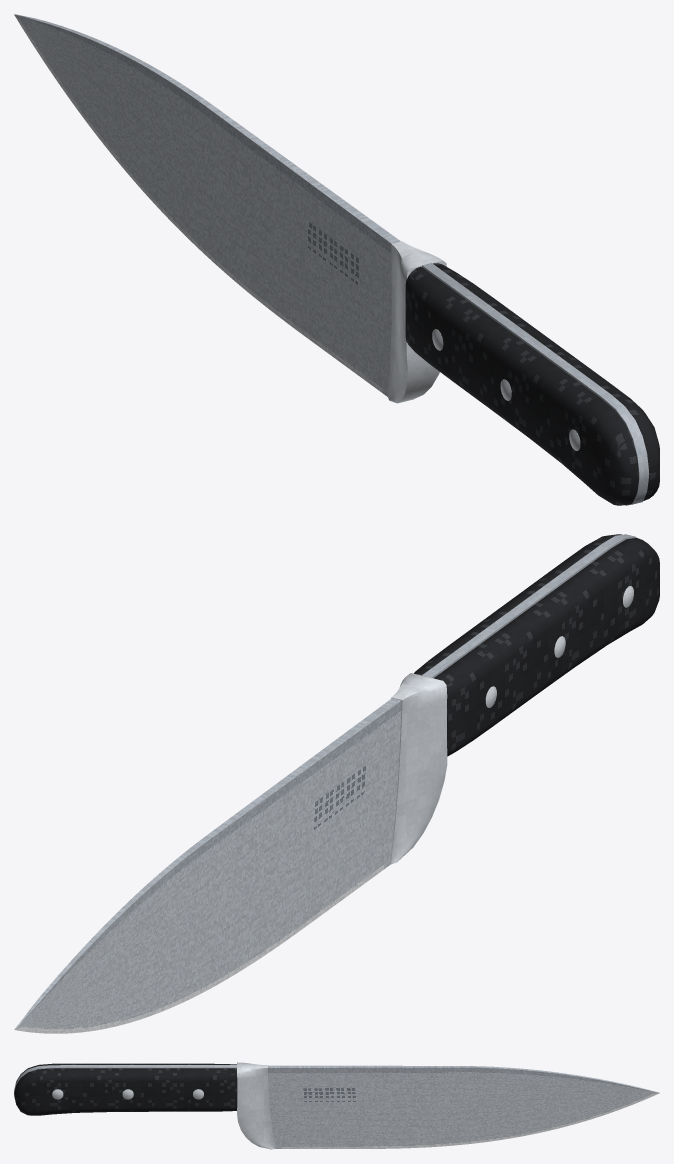
File: w_knife_kitchen.glb
The picture shows the model from 3 angles, top to bottom: view 1: azimuth 30°, elevation 25°; view 2: azimuth 150°, elevation 25°; view 3: azimuth 270°, elevation 25°; orthographic projection. The views are drawn at different scales.
Parts seen in each view (by area): view 1: kkitchen_blade_wzB, kkitchen_grip_wzA; view 2: kkitchen_blade_wzB, kkitchen_grip_wzA; view 3: kkitchen_blade_wzB, kkitchen_grip_wzA, kkitchen_rivets_wzN.
Boxes of the visible parts, <box> form: kkitchen_blade_wzB: <box>14,14,400,396</box>; kkitchen_grip_wzA: <box>387,241,659,505</box>; kkitchen_blade_wzB: <box>14,698,401,1033</box>; kkitchen_grip_wzA: <box>390,534,659,864</box>; kkitchen_blade_wzB: <box>268,1065,659,1148</box>; kkitchen_grip_wzA: <box>14,1062,275,1149</box>; kkitchen_rivets_wzN: <box>52,1089,203,1099</box>.
Bounding box in the file's own units: 0.0179 × 0.0477 × 0.3352.
4 materials, 4 textured.
